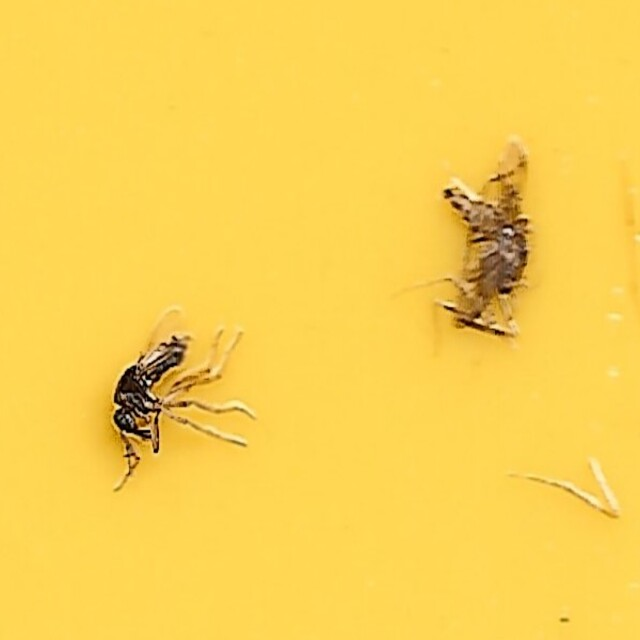Brachycera: (107, 326, 257, 497)
Nematocera: (445, 143, 533, 326)
